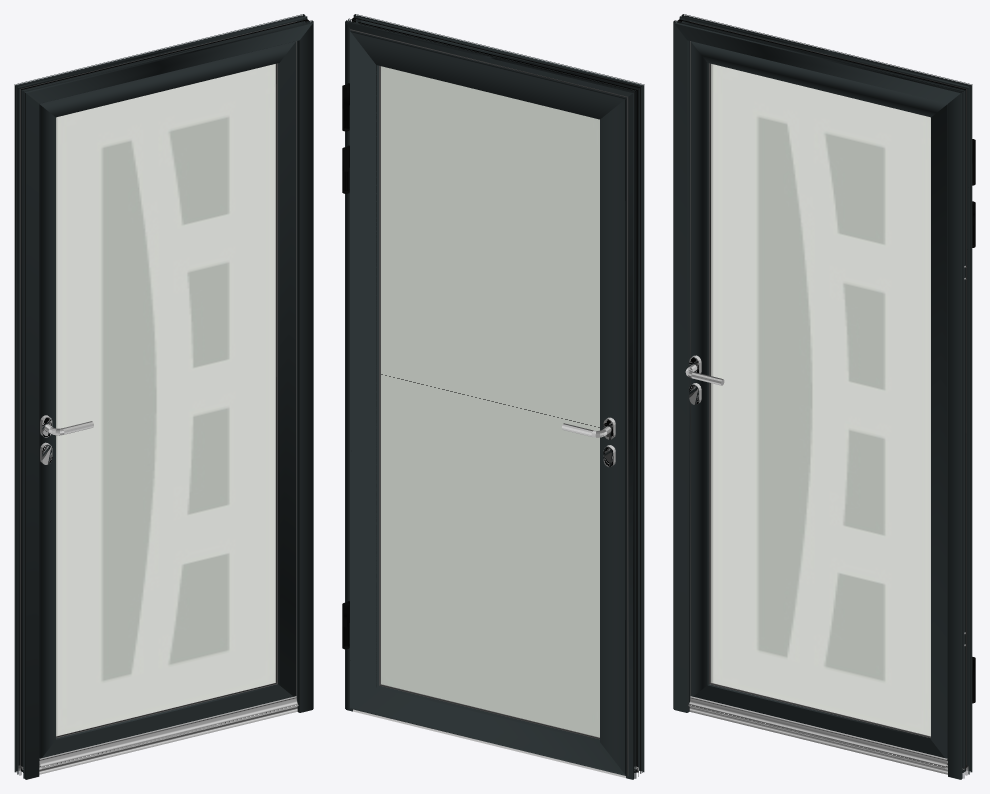
The picture shows the model from 3 angles, left to right: view 1: azimuth 30°, elevation 25°; view 2: azimuth 150°, elevation 25°; view 3: azimuth 330°, elevation 25°; orthographic projection.
Visible parts, largest first — view 1: ouvrant, 30_architect; view 2: ouvrant, 30_architect; view 3: ouvrant, 30_architect.
Part boxes in pixels (x1=…): ouvrant: x1=20, y1=21, x2=298, y2=768; 30_architect: x1=14, y1=14, x2=313, y2=779; ouvrant: x1=342, y1=29, x2=628, y2=776; 30_architect: x1=342, y1=14, x2=644, y2=779; ouvrant: x1=688, y1=21, x2=975, y2=768; 30_architect: x1=673, y1=14, x2=975, y2=779.
Bounding box in the file's own units: 96 × 218 × 20.21.
Materials: 1 (1 with a texture image).
